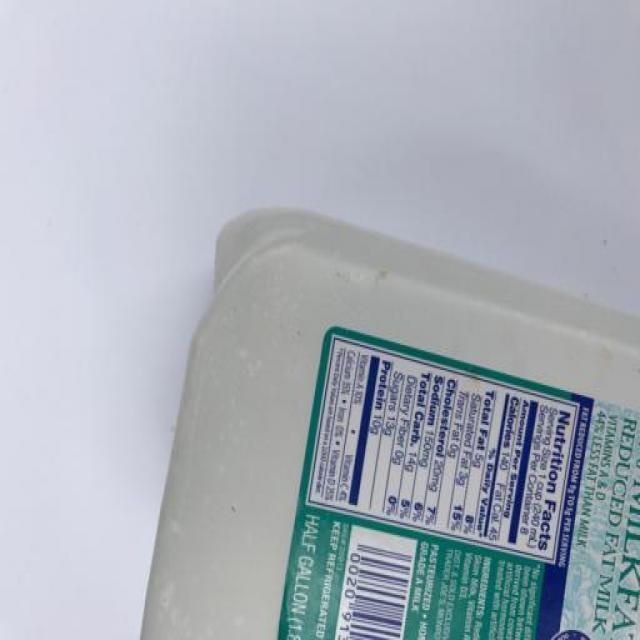cardboard: (142, 206, 640, 640)
